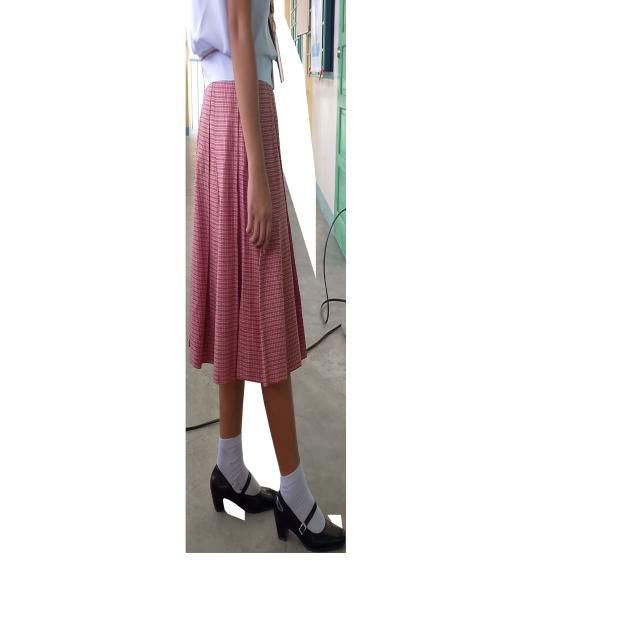shoes: (210, 465, 345, 551)
skirt: (187, 81, 306, 384)
